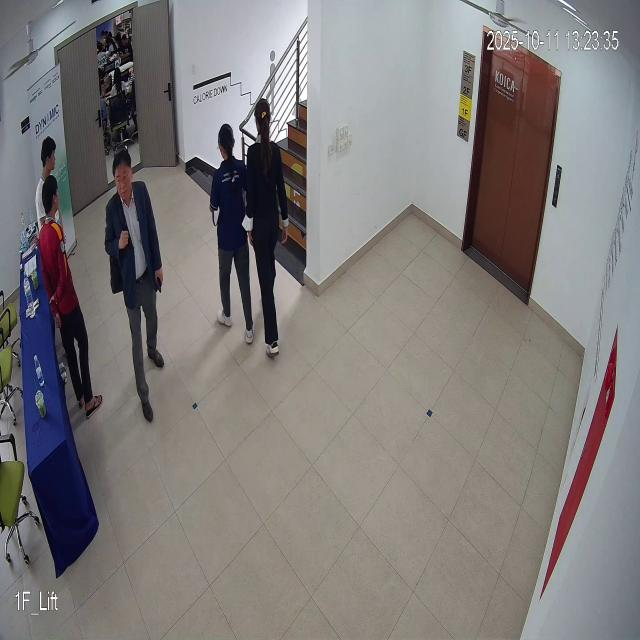face: (107, 144, 140, 206)
